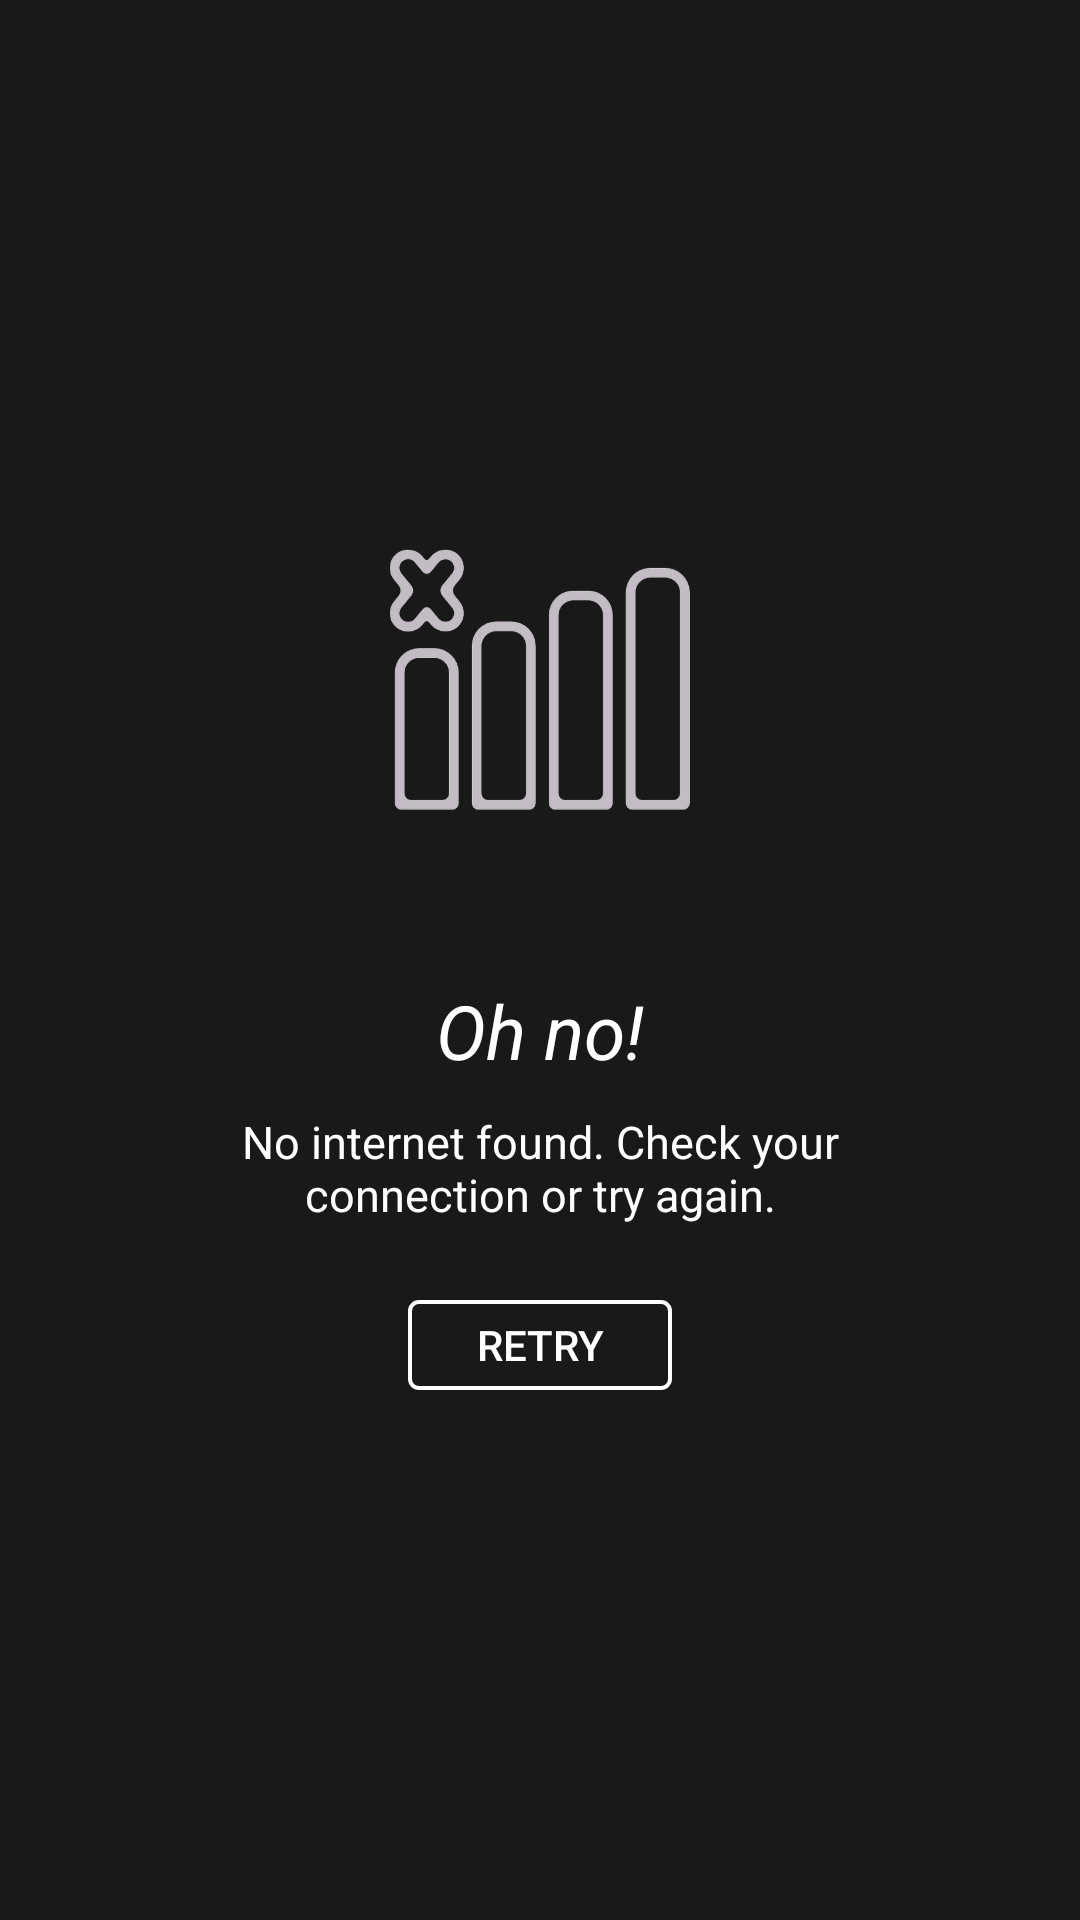

Point at icon controls on the screen. Image size 1080x1920, points as (x=x, y=y).
no internet: (x=540, y=679)
